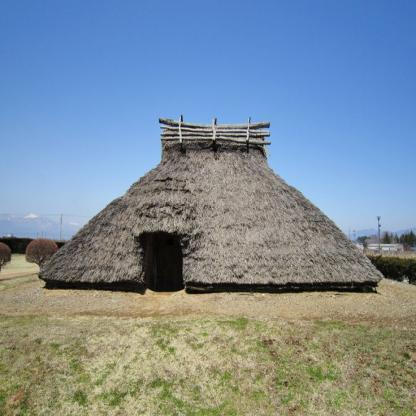Building Outline: (37, 115, 384, 289)
Door: (154, 233, 180, 292)
Door Hole: (144, 231, 185, 292)
Facade: (85, 226, 338, 290)
Ground Floor: (40, 200, 376, 290)
Roof: (38, 139, 384, 282)
